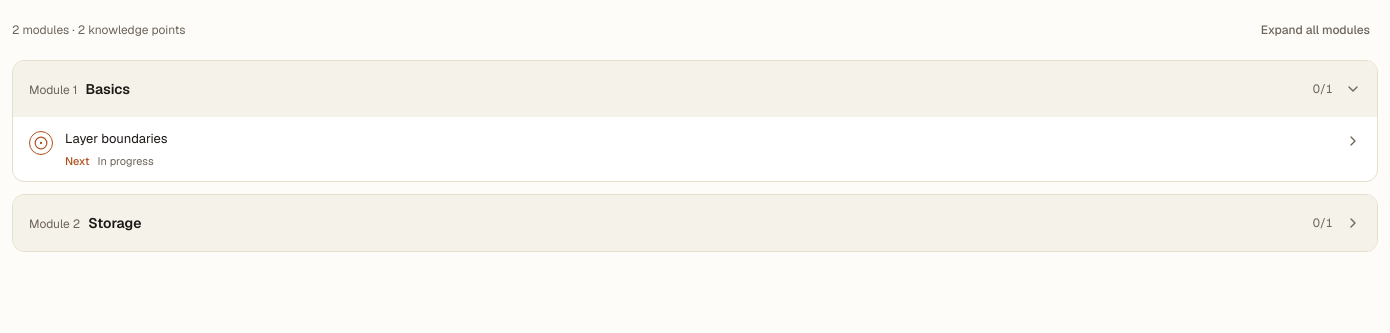
module outline navigation › starts with the current module open and lets learners expand other modules
This screenshot has width=1390, height=333.
Check: the button "Database boundaries" is not shown
Click the button "Module 2 Storage 0/1" at [55, 224], box [13,195,1377,251]
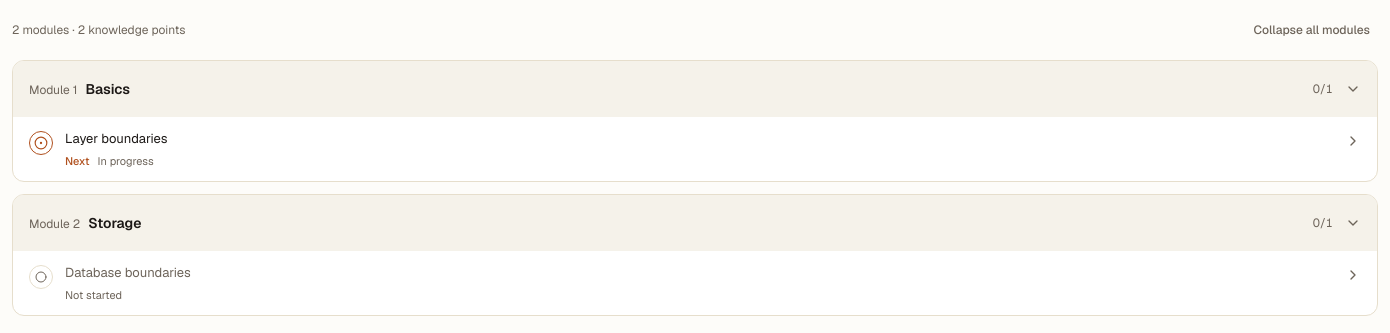
Check: the button "Database boundaries Not started" is shown, box [13,251,1377,315]
